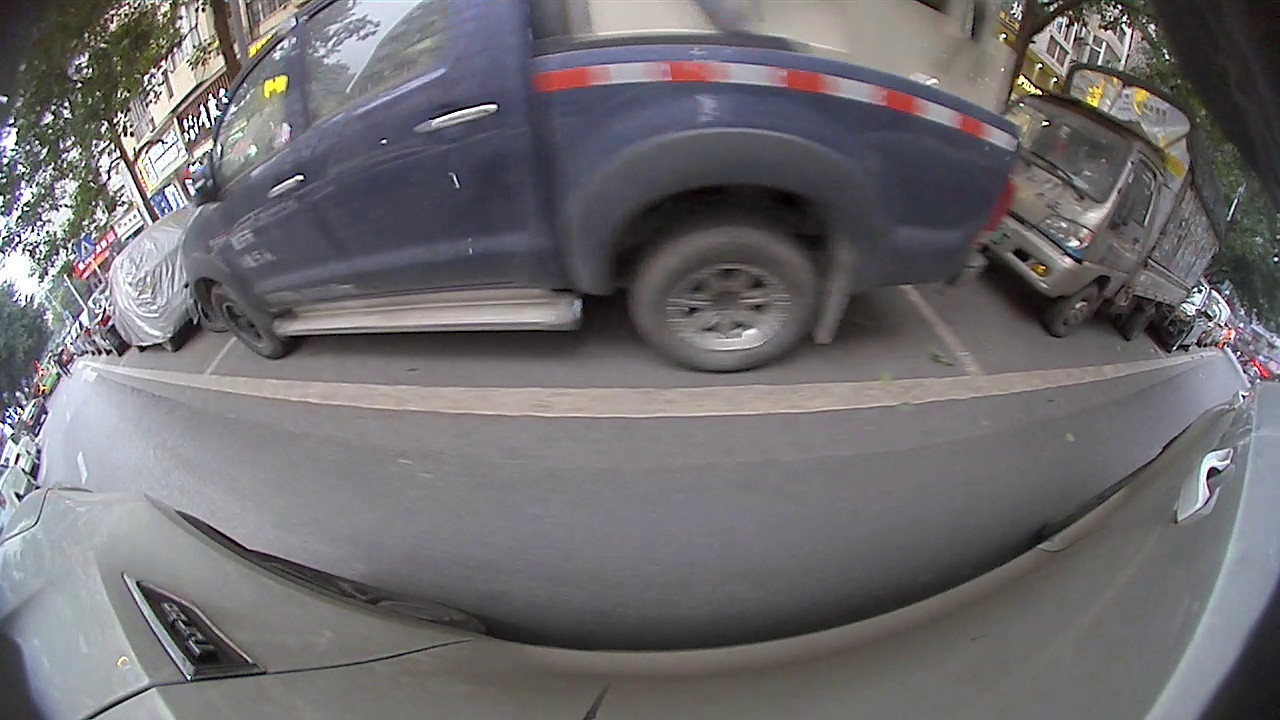car: (653, 29, 1111, 381), (130, 88, 489, 334), (44, 194, 173, 341), (1098, 237, 1177, 368), (29, 294, 74, 348)
front: (278, 254, 358, 336), (1038, 330, 1098, 384), (92, 297, 132, 341)
person: (74, 203, 158, 350), (507, 8, 565, 217), (454, 15, 478, 138)
rear: (769, 281, 904, 386), (149, 285, 192, 331), (1120, 340, 1152, 370)
